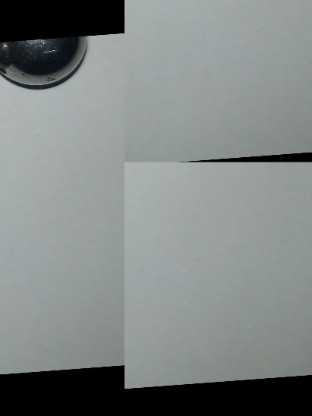ironball: (0, 36, 92, 96)
